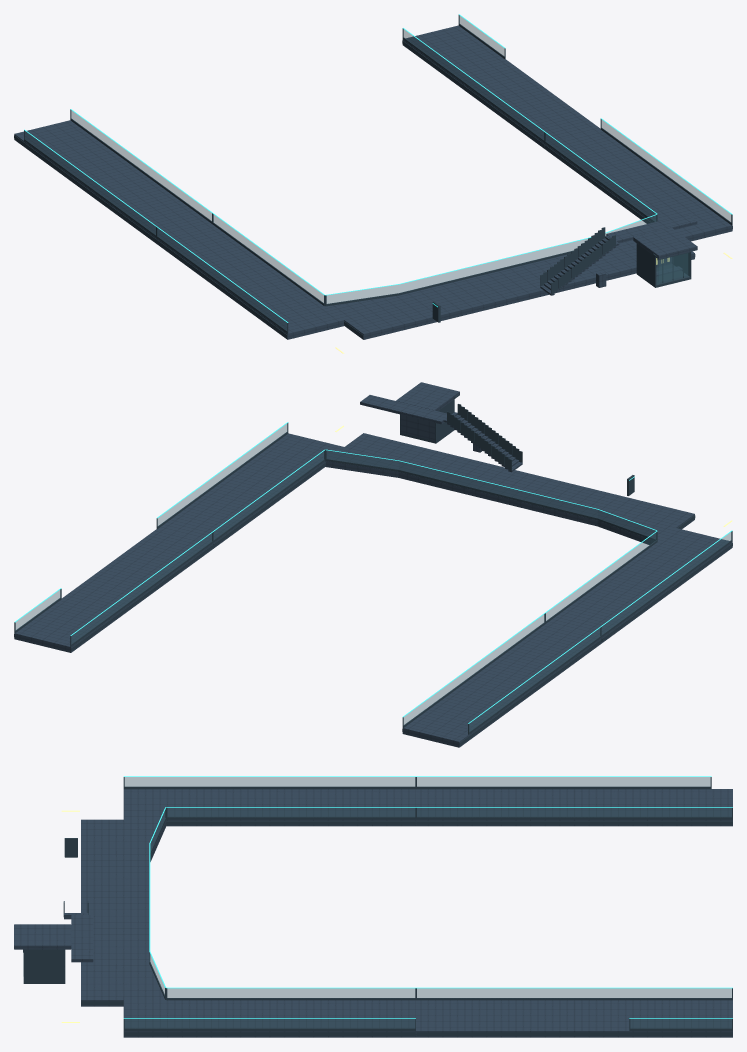
The model's file is east-loggia-portal-1-slender.glb.
The picture shows the model from 3 angles, top to bottom: view 1: azimuth 30°, elevation 25°; view 2: azimuth 150°, elevation 25°; view 3: azimuth 270°, elevation 25°; orthographic projection. The views are drawn at different scales.
Visible parts, largest first — view 1: east-loggia-portal-1-slender::V2-BR-L2, east-loggia-portal-1-slender::gallery-E-24-300, east-loggia-portal-1-slender::gallery-W-24-300, east-loggia-portal-1-slender::gallery-W-24-326, east-loggia-portal-1-slender::gallery-E-24-326, east-loggia-portal-1-slender::public-guard-0167, east-loggia-portal-1-slender::detail-market-shop-volume, east-loggia-portal-1-slender::public-guard-0028, east-loggia-portal-1-slender::public-guard-0010, east-loggia-portal-1-slender::public-guard-0009, east-loggia-portal-1-slender::public-guard-0011, east-loggia-portal-1-slender::public-guard-0031 (+7 smaller); view 2: east-loggia-portal-1-slender::V2-BR-L2, east-loggia-portal-1-slender::gallery-E-24-300, east-loggia-portal-1-slender::gallery-W-24-300, east-loggia-portal-1-slender::gallery-W-24-326, east-loggia-portal-1-slender::gallery-E-24-326, east-loggia-portal-1-slender::public-guard-0167, east-loggia-portal-1-slender::public-guard-0010, east-loggia-portal-1-slender::public-guard-0028, east-loggia-portal-1-slender::public-guard-0009, east-loggia-portal-1-slender::public-guard-0031, east-loggia-portal-1-slender::public-guard-0011, east-loggia-portal-1-slender::public-guard-0030 (+6 smaller); view 3: east-loggia-portal-1-slender::V2-BR-L2, east-loggia-portal-1-slender::gallery-E-24-300, east-loggia-portal-1-slender::gallery-W-24-300, east-loggia-portal-1-slender::gallery-E-24-326, east-loggia-portal-1-slender::gallery-W-24-326, east-loggia-portal-1-slender::public-guard-0028, east-loggia-portal-1-slender::public-guard-0009, east-loggia-portal-1-slender::public-guard-0011, east-loggia-portal-1-slender::public-guard-0010, east-loggia-portal-1-slender::public-guard-0031, east-loggia-portal-1-slender::public-guard-0030, east-loggia-portal-1-slender::public-guard-0012 (+11 smaller).
Part boxes in pixels (bbox=[...]): east-loggia-portal-1-slender::V2-BR-L2: bbox=[326, 240, 694, 339]; east-loggia-portal-1-slender::gallery-E-24-300: bbox=[402, 25, 600, 148]; east-loggia-portal-1-slender::gallery-W-24-300: bbox=[14, 120, 211, 243]; east-loggia-portal-1-slender::gallery-W-24-326: bbox=[156, 224, 344, 339]; east-loggia-portal-1-slender::gallery-E-24-326: bbox=[544, 129, 732, 241]; east-loggia-portal-1-slender::public-guard-0167: bbox=[325, 215, 657, 306]; east-loggia-portal-1-slender::detail-market-shop-volume: bbox=[636, 243, 691, 287]; east-loggia-portal-1-slender::public-guard-0028: bbox=[402, 28, 544, 142]; east-loggia-portal-1-slender::public-guard-0010: bbox=[70, 109, 212, 223]; east-loggia-portal-1-slender::public-guard-0009: bbox=[24, 130, 156, 237]; east-loggia-portal-1-slender::public-guard-0011: bbox=[156, 227, 288, 333]; east-loggia-portal-1-slender::public-guard-0031: bbox=[600, 119, 732, 225]; east-loggia-portal-1-slender::V2-BR-L2: bbox=[325, 433, 694, 544]; east-loggia-portal-1-slender::gallery-E-24-300: bbox=[14, 529, 213, 652]; east-loggia-portal-1-slender::gallery-W-24-300: bbox=[402, 624, 601, 747]; east-loggia-portal-1-slender::gallery-W-24-326: bbox=[546, 528, 732, 643]; east-loggia-portal-1-slender::gallery-E-24-326: bbox=[157, 433, 343, 548]; east-loggia-portal-1-slender::public-guard-0167: bbox=[325, 450, 656, 540]; east-loggia-portal-1-slender::public-guard-0010: bbox=[402, 613, 545, 727]; east-loggia-portal-1-slender::public-guard-0028: bbox=[70, 532, 212, 646]; east-loggia-portal-1-slender::public-guard-0009: bbox=[468, 627, 601, 734]; east-loggia-portal-1-slender::public-guard-0031: bbox=[156, 423, 288, 529]; east-loggia-portal-1-slender::public-guard-0011: bbox=[601, 531, 732, 637]; east-loggia-portal-1-slender::public-guard-0030: bbox=[213, 450, 325, 542]; east-loggia-portal-1-slender::V2-BR-L2: bbox=[81, 819, 166, 1006]; east-loggia-portal-1-slender::gallery-E-24-300: bbox=[416, 1000, 732, 1037]; east-loggia-portal-1-slender::gallery-W-24-300: bbox=[416, 789, 732, 826]; east-loggia-portal-1-slender::gallery-E-24-326: bbox=[123, 1000, 415, 1037]; east-loggia-portal-1-slender::gallery-W-24-326: bbox=[123, 789, 415, 826]; east-loggia-portal-1-slender::public-guard-0028: bbox=[416, 988, 732, 1000]; east-loggia-portal-1-slender::public-guard-0009: bbox=[416, 777, 711, 789]; east-loggia-portal-1-slender::public-guard-0011: bbox=[123, 777, 415, 789]; east-loggia-portal-1-slender::public-guard-0010: bbox=[416, 807, 732, 819]; east-loggia-portal-1-slender::public-guard-0031: bbox=[123, 1018, 415, 1030]; east-loggia-portal-1-slender::public-guard-0030: bbox=[166, 988, 415, 1000]; east-loggia-portal-1-slender::public-guard-0012: bbox=[166, 807, 415, 819].
Bounding box in the file's own units: 47.1 × 5.16 × 59.
5 materials, 1 textured.
